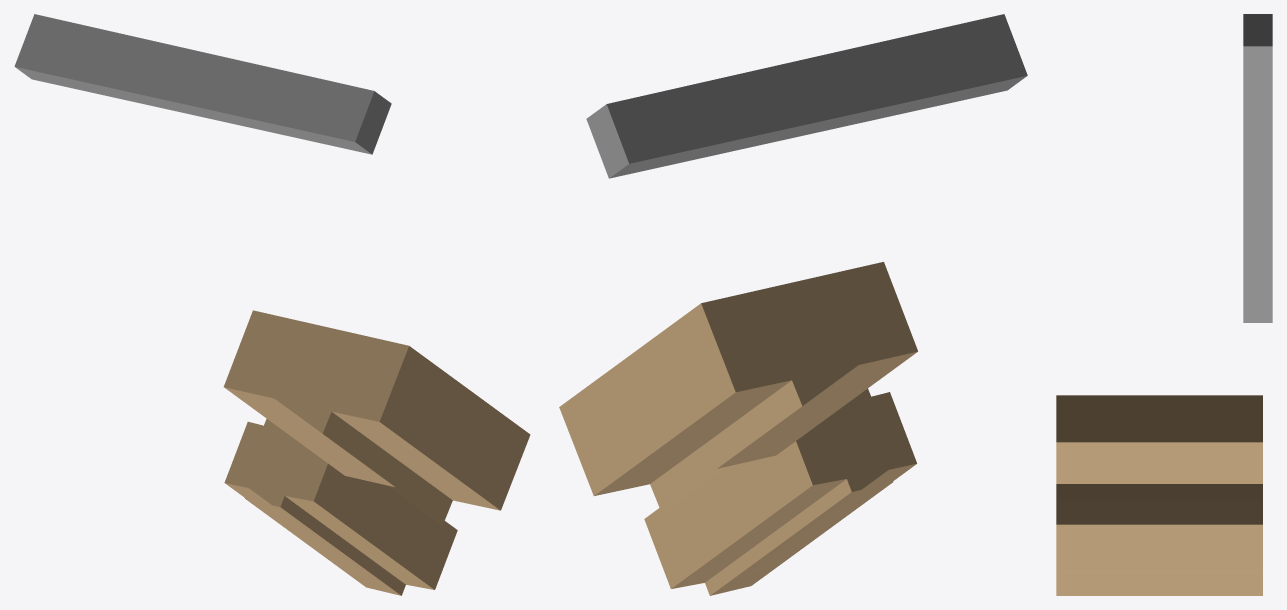
3 views of the same model, side by side, from view 1: azimuth 30°, elevation 25°; view 2: azimuth 150°, elevation 25°; view 3: azimuth 270°, elevation 25° (orthographic). The views are drawn at different scales.
Parts seen in each view (by area): view 1: 0_3_1_3_3_3_3_0_0; view 2: 0_3_1_3_3_3_3_0_0; view 3: 0_3_1_3_3_3_3_0_0.
Part boxes in pixels (x1,y1,x2,y2): 0_3_1_3_3_3_3_0_0: (14, 14, 530, 595); 0_3_1_3_3_3_3_0_0: (559, 14, 1027, 595); 0_3_1_3_3_3_3_0_0: (1056, 14, 1272, 595).
Size of the model in its own units: 38.88 by 52.51 by 22.
